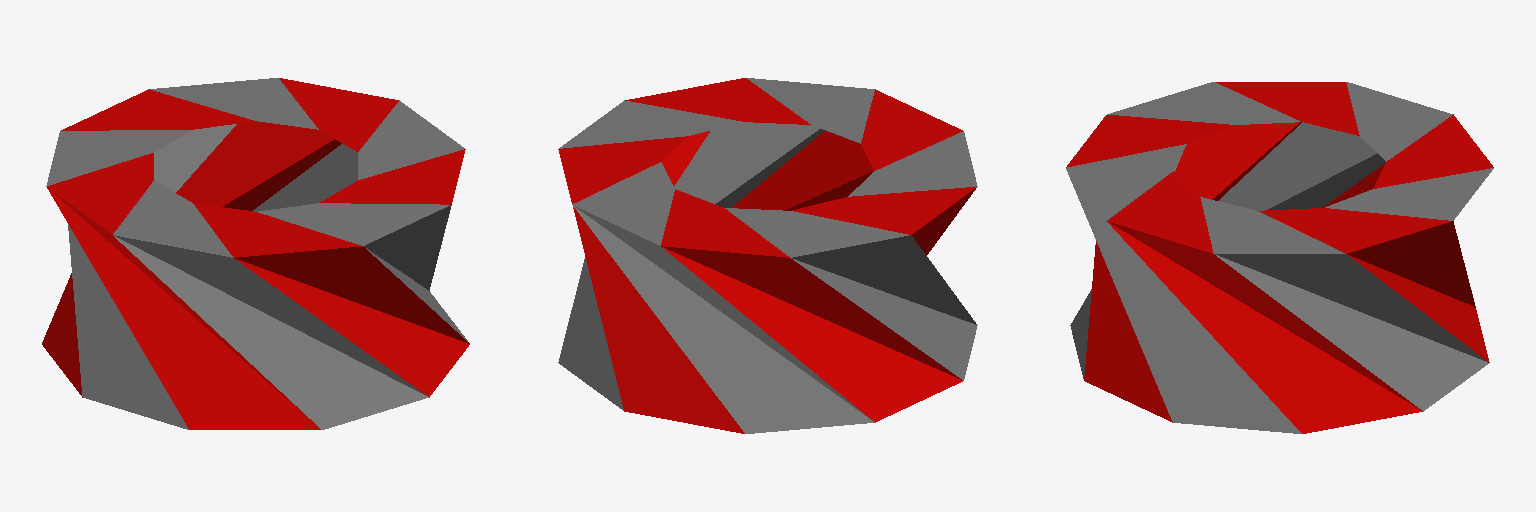
File: Celluvoyer_wheel_0_1.obj
3 renders of one model, left to right at view 1: azimuth 30°, elevation 25°; view 2: azimuth 150°, elevation 25°; view 3: azimuth 270°, elevation 25°, orthographic.
Visible parts, largest first — view 1: Cylinder; view 2: Cylinder; view 3: Cylinder.
Part boxes in pixels (bbox=[...]): Cylinder: bbox=[42, 78, 469, 429]; Cylinder: bbox=[558, 78, 977, 433]; Cylinder: bbox=[1066, 82, 1493, 433].
Bounding box in the file's own units: 0.0557 × 0.0258 × 0.056.